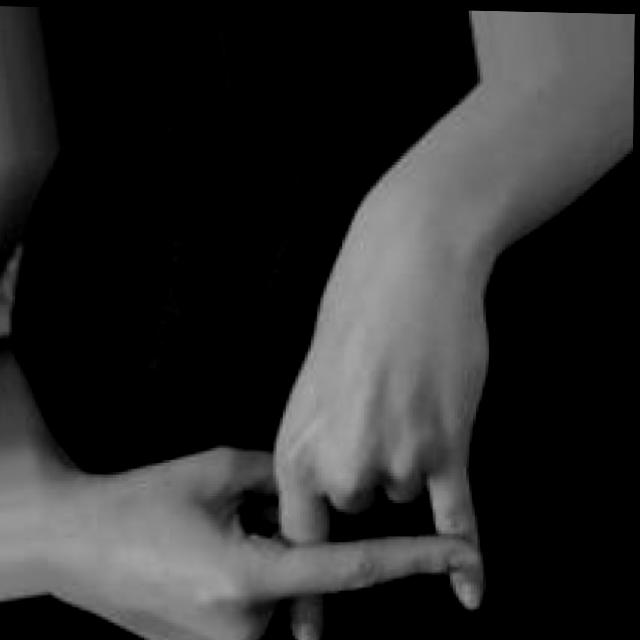H: (62, 289, 495, 640)
